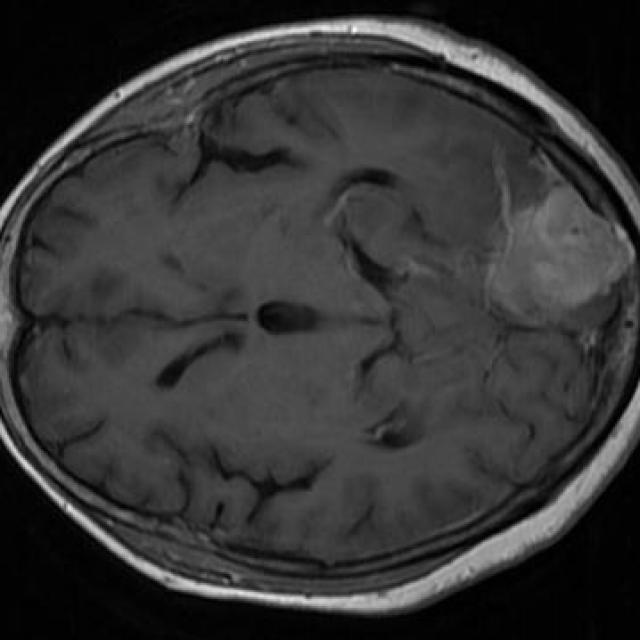meningioma: (492, 185, 629, 321)
